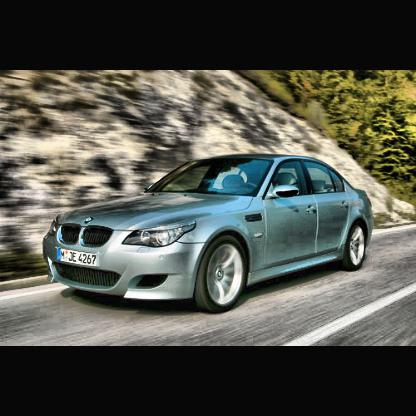BMW M5 Sedan 2010: (44, 153, 375, 316)
